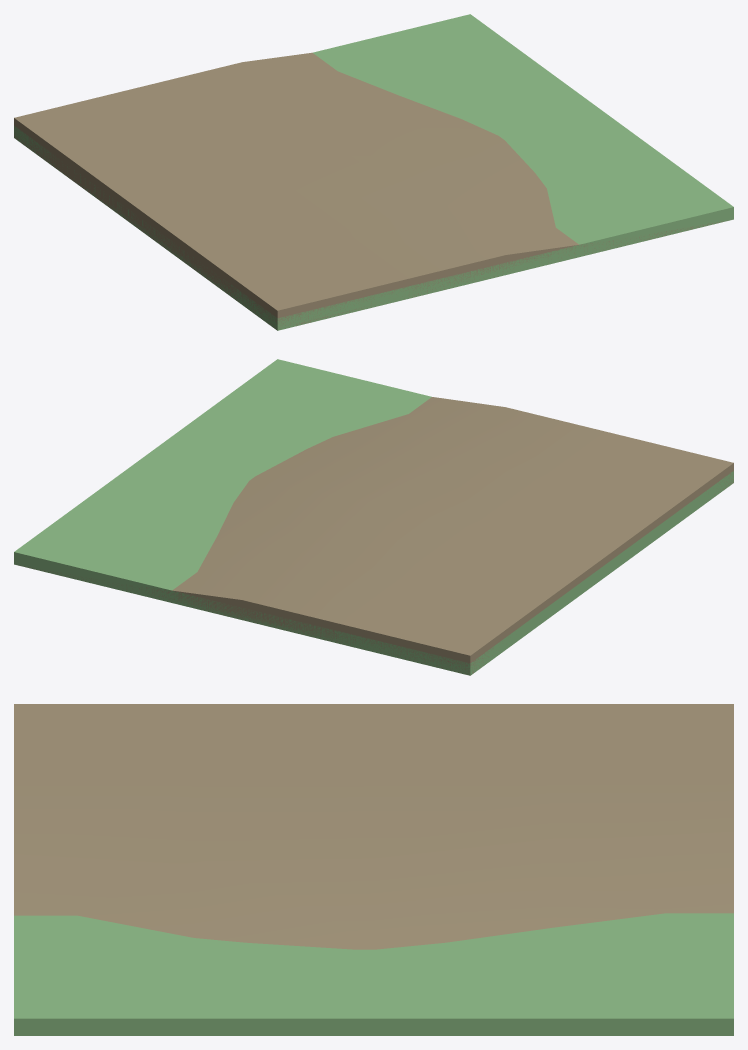
File: Ground.fbx
The picture shows the model from 3 angles, top to bottom: view 1: azimuth 30°, elevation 25°; view 2: azimuth 150°, elevation 25°; view 3: azimuth 270°, elevation 25°; orthographic projection. The views are drawn at different scales.
Parts seen in each view (by area): view 1: polySurface192, polySurface191; view 2: polySurface192, polySurface191; view 3: polySurface192, polySurface191.
Part boxes in pixels (left/top/right/bottom): polySurface192: left=14, top=52, right=727, bottom=329; polySurface191: left=14, top=14, right=733, bottom=330; polySurface192: left=18, top=397, right=733, bottom=675; polySurface191: left=14, top=359, right=733, bottom=675; polySurface192: left=14, top=704, right=733, bottom=949; polySurface191: left=14, top=913, right=733, bottom=1035.
Size of the model in its own units: 24 by 1.01 by 24.
